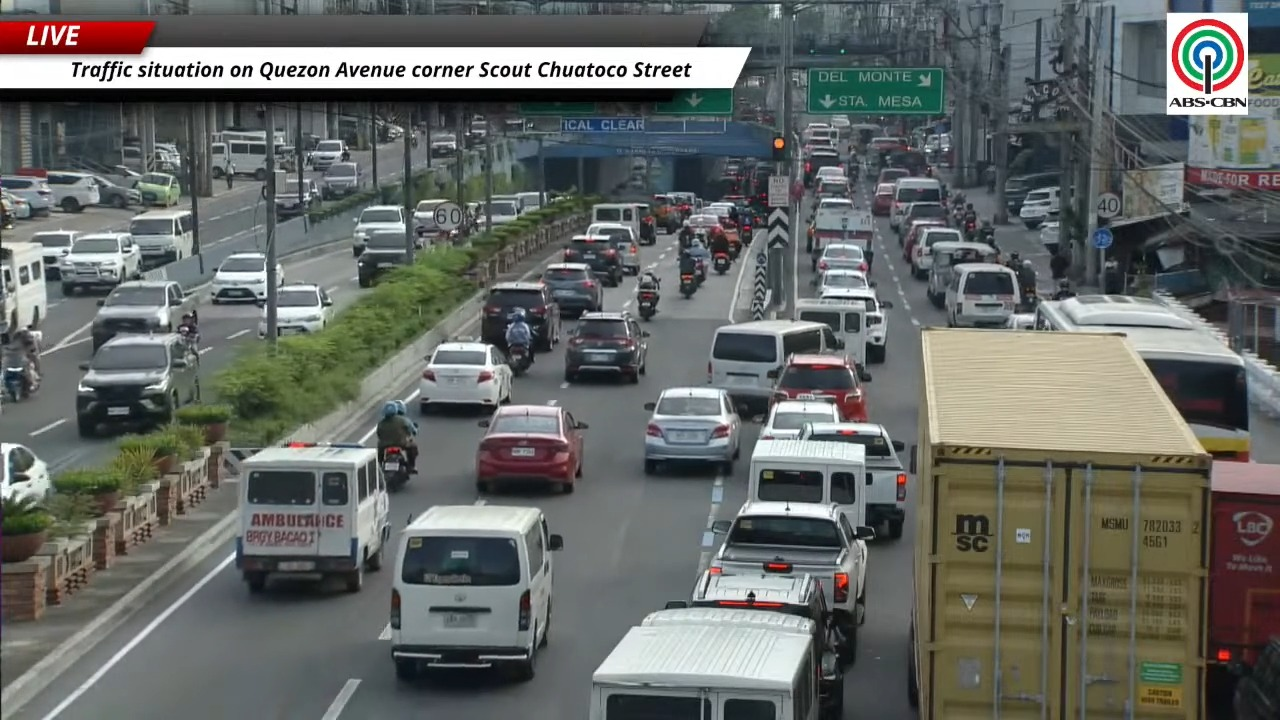bus: (1035, 295, 1250, 460), (0, 240, 47, 336), (210, 129, 265, 180), (210, 129, 266, 142)
car: (643, 571, 843, 719), (77, 333, 198, 436), (799, 423, 907, 538), (476, 405, 587, 493), (644, 386, 742, 476), (91, 280, 195, 351), (419, 340, 513, 412), (773, 354, 870, 421), (564, 312, 648, 383), (481, 281, 560, 351), (820, 287, 892, 363), (59, 232, 140, 295), (759, 396, 841, 439), (541, 263, 603, 315), (356, 229, 411, 287), (563, 234, 623, 286), (0, 442, 51, 503), (276, 283, 334, 335), (907, 225, 963, 278), (210, 252, 267, 303), (585, 223, 640, 275), (352, 205, 405, 256), (31, 229, 81, 279), (44, 170, 100, 212), (0, 175, 53, 216), (900, 218, 947, 262), (275, 178, 321, 217), (1019, 186, 1059, 229), (321, 162, 365, 200), (897, 202, 946, 236), (90, 175, 140, 208), (815, 243, 868, 272), (804, 147, 842, 187), (818, 269, 873, 296), (135, 173, 180, 206), (412, 199, 451, 235), (306, 139, 348, 170), (650, 195, 680, 233), (0, 190, 31, 218), (813, 197, 855, 216), (1038, 219, 1060, 254), (871, 183, 892, 216), (815, 178, 848, 198), (429, 136, 457, 157), (876, 167, 909, 184), (1004, 314, 1035, 329), (816, 166, 846, 181)
motorcycle: (0, 367, 37, 401), (382, 446, 410, 490), (178, 325, 199, 362), (508, 344, 531, 377), (1019, 284, 1039, 312), (637, 291, 656, 320), (679, 273, 697, 298), (713, 253, 731, 275), (695, 257, 706, 284), (963, 219, 976, 241), (978, 228, 993, 245), (411, 133, 418, 148)
truck: (907, 329, 1211, 719), (708, 501, 873, 663), (1206, 462, 1279, 716)
